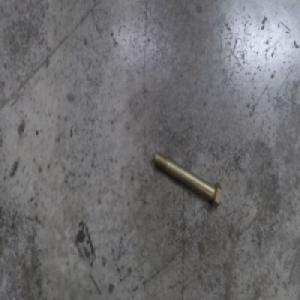Bolt: (152, 148, 222, 210)
